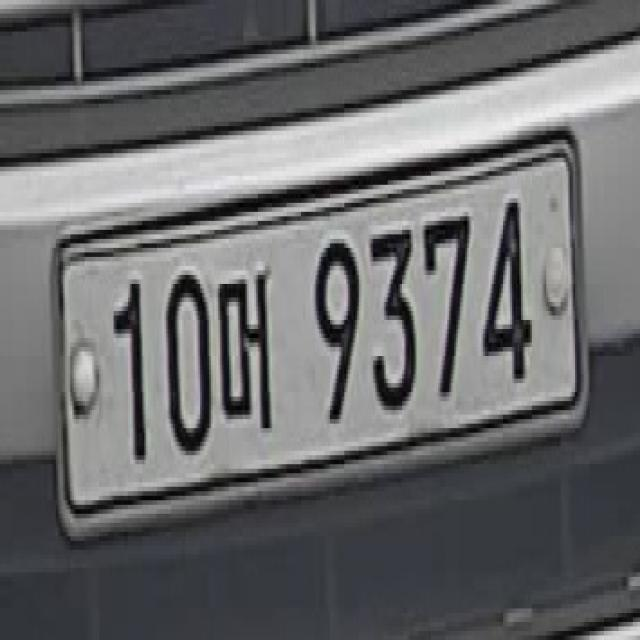0: (164, 255, 212, 466)
1: (112, 282, 150, 478)
3: (368, 228, 418, 424)
4: (481, 186, 540, 394)
7: (422, 205, 476, 408)
9: (314, 226, 360, 428)
license_plate: (48, 118, 592, 554)
meo: (216, 260, 280, 447)
